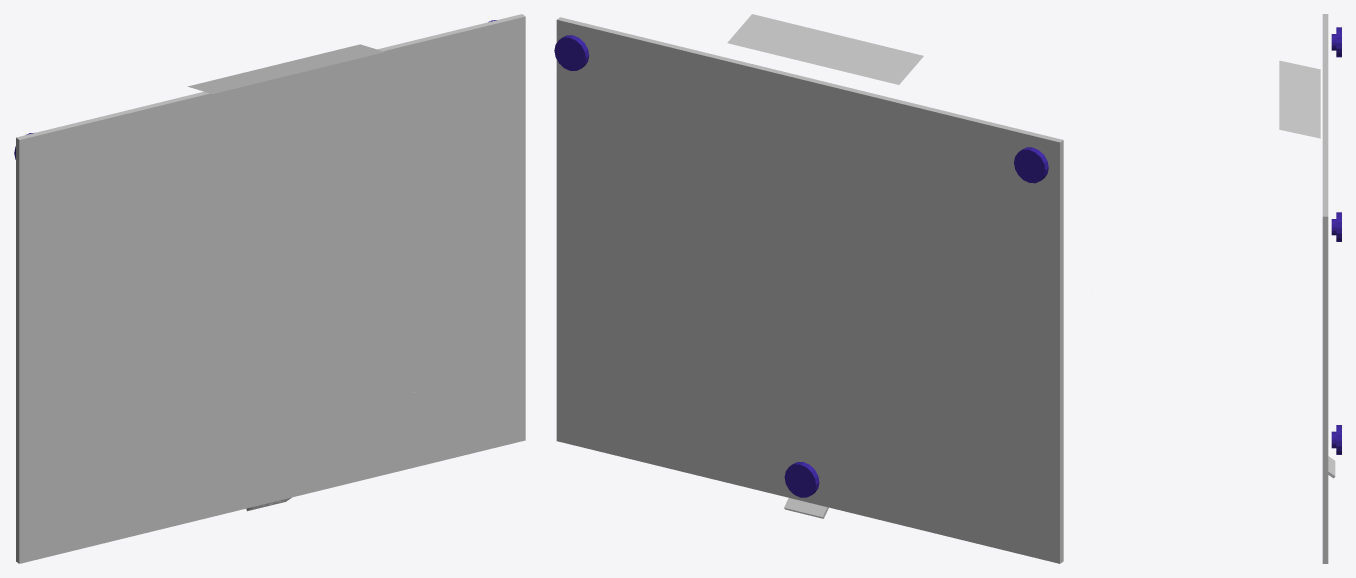
The model's file is craftbot_platform.obj.
3 renders of one model, left to right at view 1: azimuth 30°, elevation 25°; view 2: azimuth 150°, elevation 25°; view 3: azimuth 270°, elevation 25°, orthographic. The views are drawn at different scales.
Visible parts, largest first — view 1: Cube.002_Cube.003; view 2: Cube.002_Cube.003; view 3: Cube.002_Cube.003.
Part boxes in pixels (x1,y1,x2,y2): Cube.002_Cube.003: (14, 14, 525, 563); Cube.002_Cube.003: (554, 14, 1063, 563); Cube.002_Cube.003: (1279, 14, 1341, 563).
Size of the model in its own units: 250 by 216 by 130.
